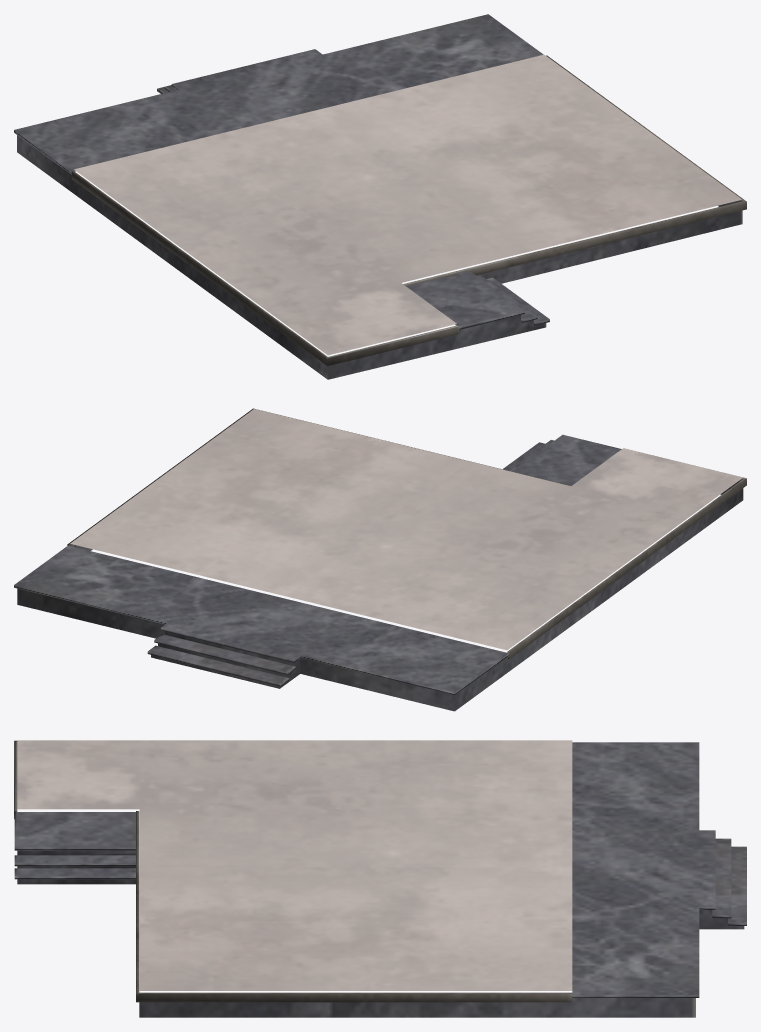
The model's file is SanNha.fbx.
3 views of the same model, one above another, from view 1: azimuth 30°, elevation 25°; view 2: azimuth 150°, elevation 25°; view 3: azimuth 270°, elevation 25° (orthographic). The views are drawn at different scales.
Parts seen in each view (by area): view 1: SanNha; view 2: SanNha; view 3: SanNha.
Part boxes in pixels (x1,y1,x2,y2): SanNha: [14, 14, 746, 379]; SanNha: [14, 408, 746, 711]; SanNha: [14, 740, 746, 1017].
Size of the model in its own units: 1131 by 57.35 by 1384.
1 material, 1 textured.
